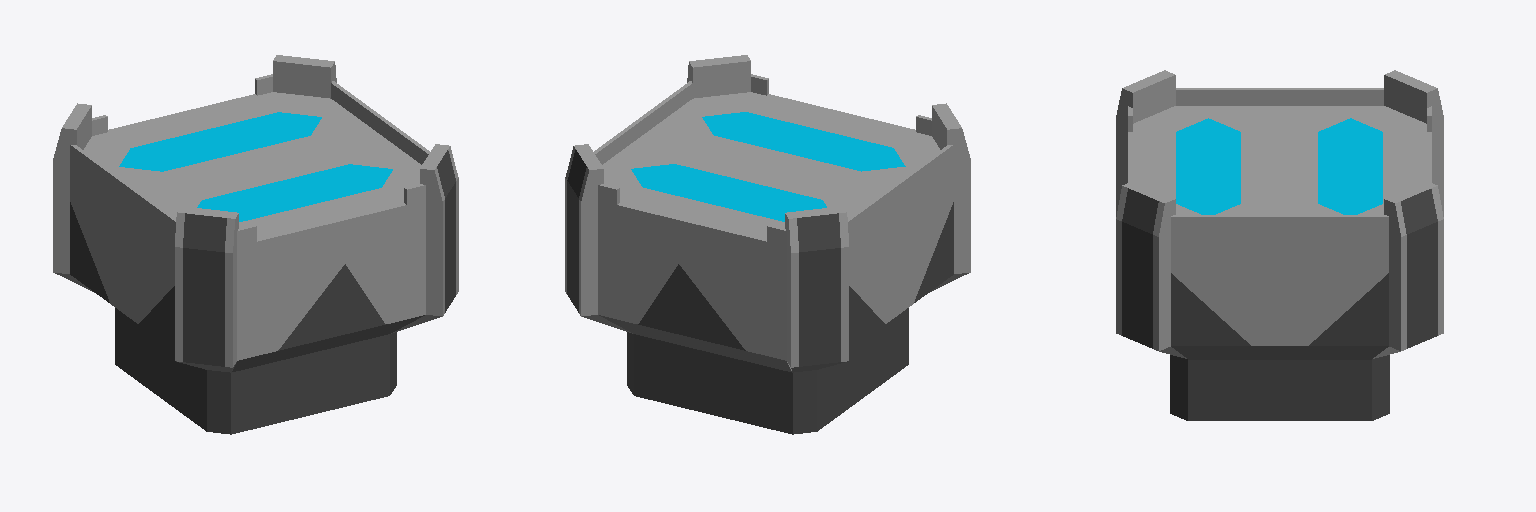
Rendered from platform-xxlarge.obj.
3 views of the same model, side by side, from view 1: azimuth 30°, elevation 25°; view 2: azimuth 150°, elevation 25°; view 3: azimuth 270°, elevation 25° (orthographic).
Visible parts, largest first — view 1: Mesh1 Platform__XXLarge1 Model; view 2: Mesh1 Platform__XXLarge1 Model; view 3: Mesh1 Platform__XXLarge1 Model.
Boxes of the visible parts, <box> form: Mesh1 Platform__XXLarge1 Model: <box>53,55,458,434</box>; Mesh1 Platform__XXLarge1 Model: <box>565,55,970,434</box>; Mesh1 Platform__XXLarge1 Model: <box>1116,70,1443,420</box>.
Bounding box in the file's own units: 6.48 × 5.19 × 6.48.